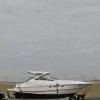Boat: (9, 64, 92, 100)
